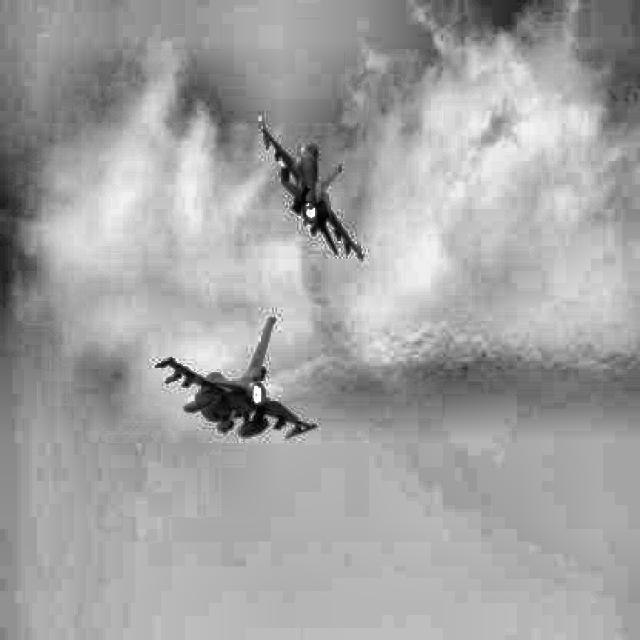F16: (155, 316, 317, 439), (260, 116, 366, 264)
